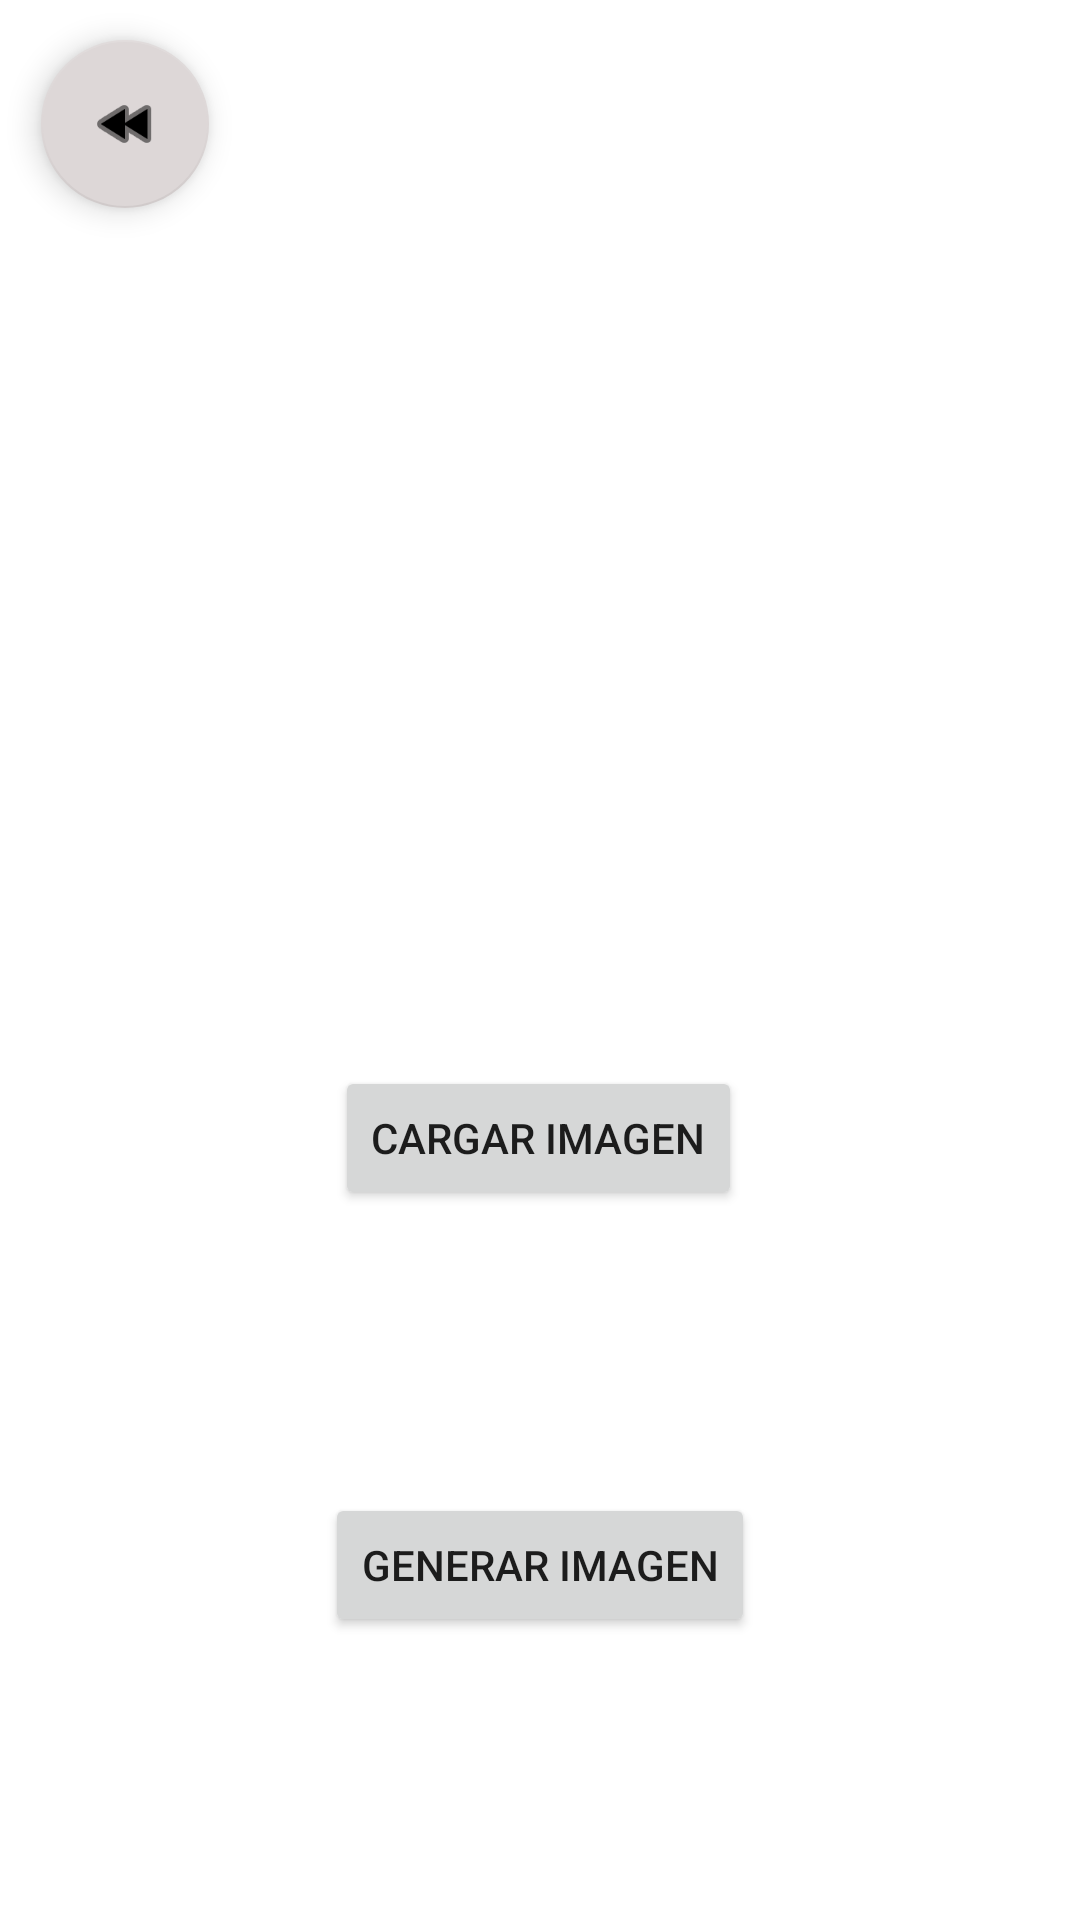

Point at icon controls on the screen. Image size 1080x1920, points as (x=x, y=y).
rew: (x=125, y=124)
